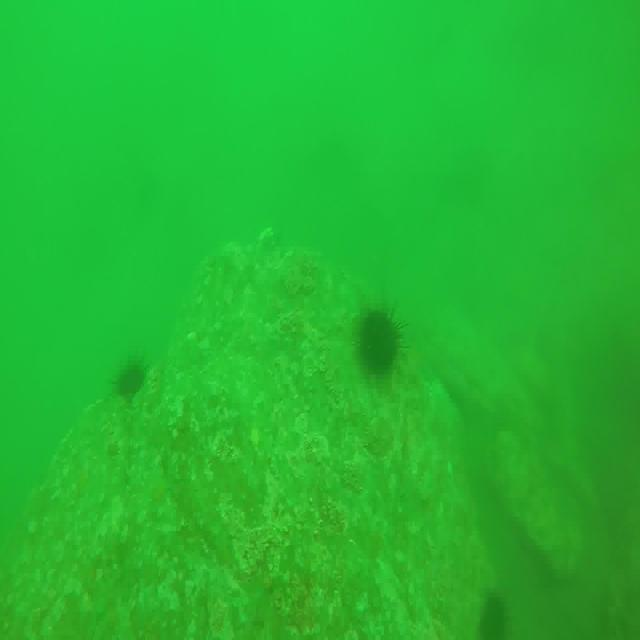echinus: (358, 303, 402, 379), (115, 350, 149, 408), (476, 585, 510, 640)
